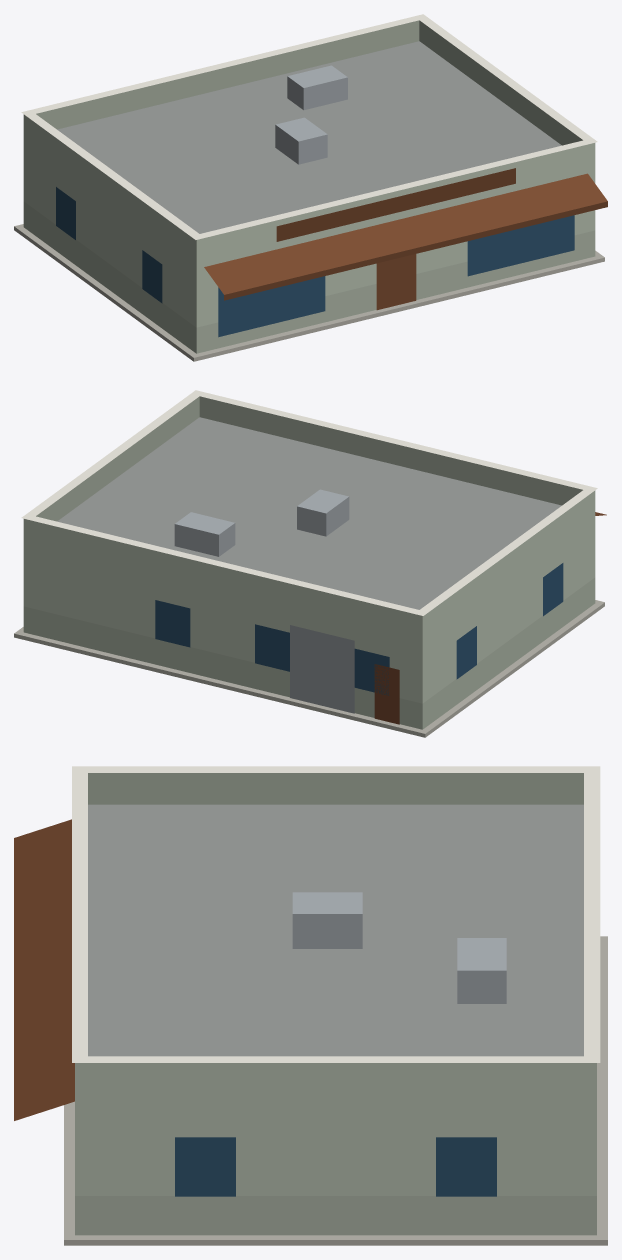
File: store_16x12_lod1.glb
The picture shows the model from 3 angles, top to bottom: view 1: azimuth 30°, elevation 25°; view 2: azimuth 150°, elevation 25°; view 3: azimuth 270°, elevation 25°; orthographic projection. The views are drawn at different scales.
Visible parts, largest first — view 1: block; view 2: block; view 3: block.
Boxes of the visible parts, <box> form: block: <box>14,14,607,361</box>; block: <box>14,390,606,737</box>; block: <box>14,766,607,1245</box>.
Size of the model in its own units: 16.5 by 4.64 by 13.65.
